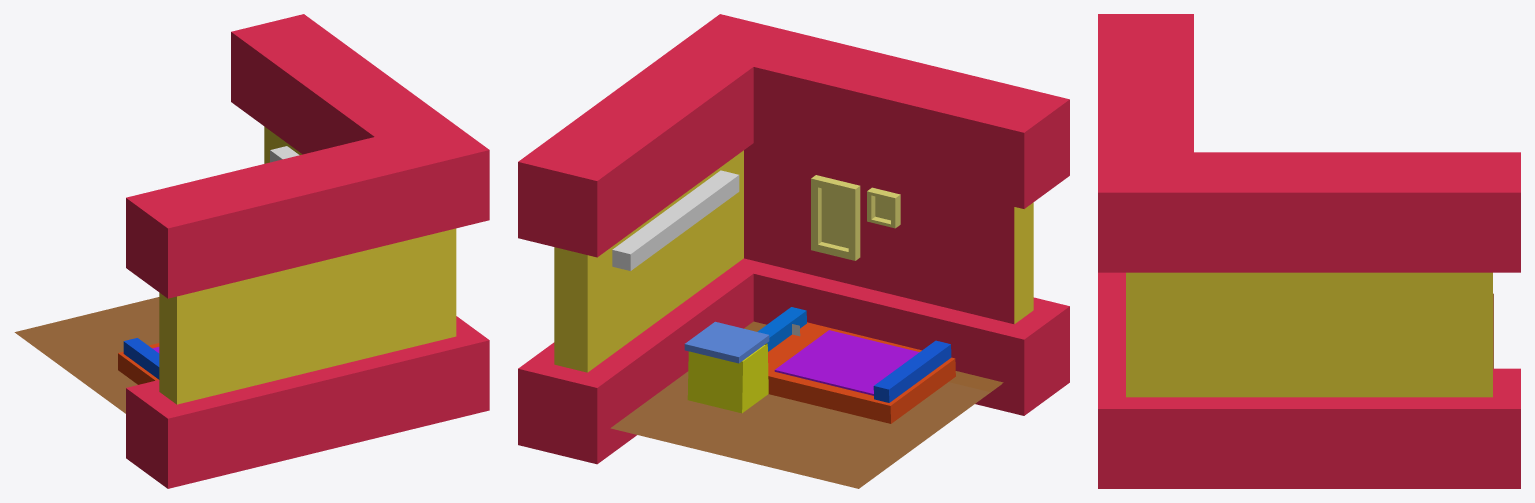
3 views of the same model, side by side, from view 1: azimuth 30°, elevation 25°; view 2: azimuth 150°, elevation 25°; view 3: azimuth 270°, elevation 25° (orthographic). The views are drawn at different scales.
Parts seen in each view (by area): view 1: Cube, Plane, Plane.003, Plane.002; view 2: Cube, Plane, Plane.002, Plane.005, Cube.001, Cube.003, Cube.004, Cube.005, Plane.003, Plane.006, Plane.001; view 3: Cube.
Part boxes in pixels (box(x1,y1,x2,y2)): Cube: box(126, 14, 489, 488); Plane: box(14, 297, 159, 413); Plane.003: box(123, 338, 159, 379); Plane.002: box(118, 343, 159, 384); Cube: box(518, 14, 1069, 464); Plane: box(610, 371, 1001, 488); Plane.002: box(768, 322, 955, 423); Plane.005: box(774, 330, 919, 395); Cube.001: box(811, 175, 900, 260); Cube.003: box(612, 170, 739, 270); Cube.004: box(687, 343, 768, 413); Cube.005: box(684, 321, 769, 363); Plane.003: box(873, 340, 951, 402); Plane.006: box(757, 307, 806, 351); Plane.001: box(744, 321, 1003, 392); Cube: box(1098, 14, 1520, 488).
Size of what is drawn, in the model's own units: 2.59 by 2 by 2.59.
